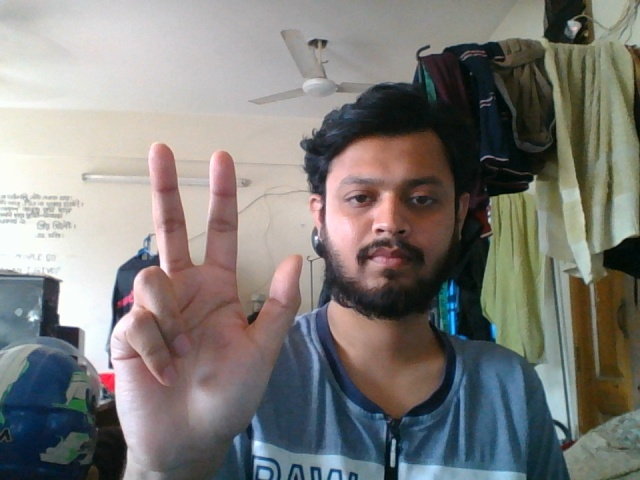da: (105, 139, 306, 480)
